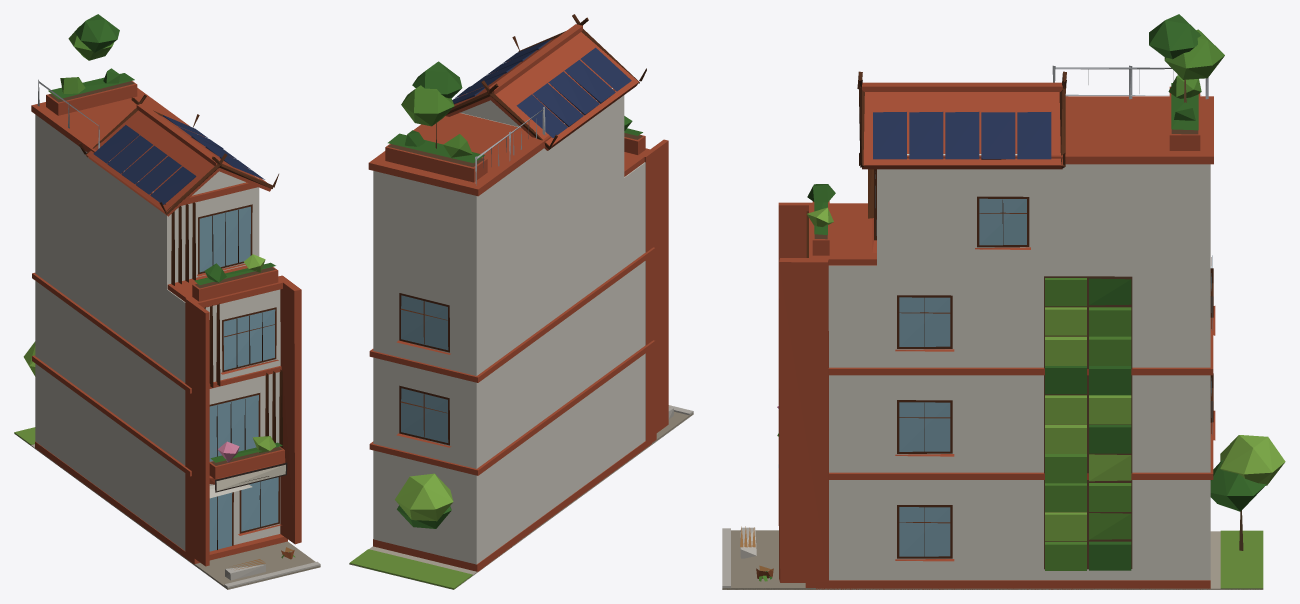
The model's file is bay2_right.glb.
3 renders of one model, left to right at view 1: azimuth 30°, elevation 25°; view 2: azimuth 150°, elevation 25°; view 3: azimuth 270°, elevation 25°, orthographic. The views are drawn at different scales.
Visible parts, largest first — view 1: body; view 2: body; view 3: body.
Boxes of the visible parts, <box> form: body: <box>14,14,320,589</box>; body: <box>349,14,693,589</box>; body: <box>722,14,1285,589</box>.
Bounding box in the file's own units: 5.19 × 17.9 × 16.56.
